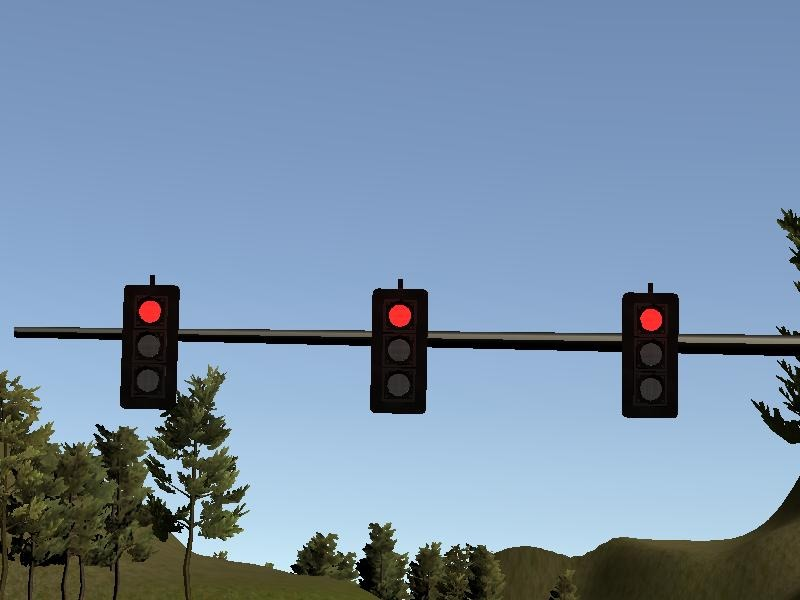red: (119, 285, 179, 409), (619, 292, 679, 416), (368, 288, 428, 412)
